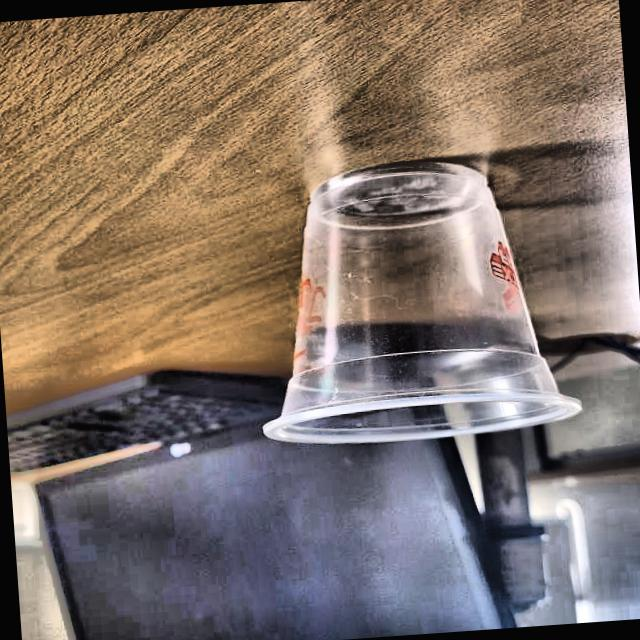plastic cup: (241, 150, 588, 451)
